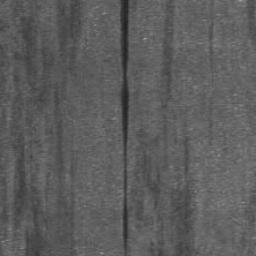Scratches: (119, 0, 129, 256)
